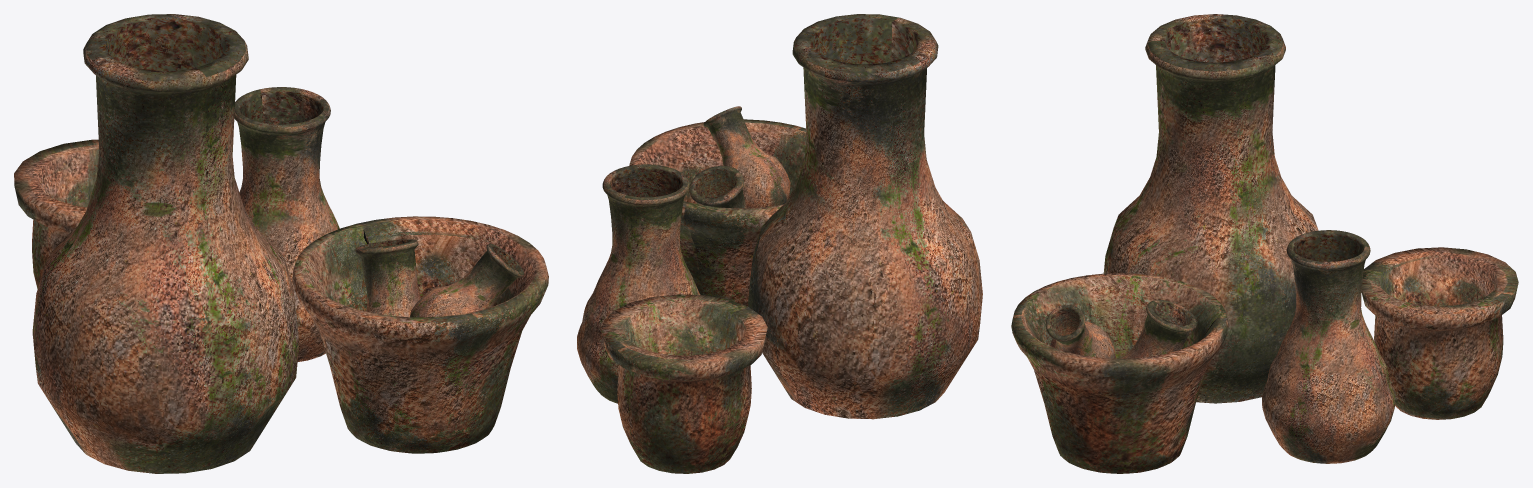
File: market_pots.glb
The picture shows the model from 3 angles, left to right: view 1: azimuth 30°, elevation 25°; view 2: azimuth 150°, elevation 25°; view 3: azimuth 270°, elevation 25°; orthographic projection. The views are drawn at different scales.
Visible parts, largest first — view 1: Cylinder.001_3, Cylinder_2, Cylinder.003_5, Cylinder.004_6, Cylinder.005_7, Cylinder.002_4; view 2: Cylinder.001_3, Cylinder.004_6, Cylinder.003_5, Cylinder_2, Cylinder.005_7, Cylinder.002_4; view 3: Cylinder.001_3, Cylinder_2, Cylinder.003_5, Cylinder.004_6, Cylinder.002_4, Cylinder.005_7.
Part boxes in pixels (x1,y1,x2,y2): Cylinder.001_3: (32, 14, 299, 473); Cylinder_2: (292, 216, 548, 453); Cylinder.003_5: (234, 87, 339, 361); Cylinder.004_6: (14, 139, 99, 288); Cylinder.005_7: (410, 243, 524, 317); Cylinder.002_4: (355, 239, 420, 317); Cylinder.001_3: (748, 14, 982, 419); Cylinder.004_6: (601, 294, 767, 473); Cylinder.003_5: (577, 164, 700, 403); Cylinder_2: (629, 119, 806, 306); Cylinder.005_7: (703, 106, 790, 208); Cylinder.002_4: (689, 165, 746, 208); Cylinder.001_3: (1103, 14, 1318, 403); Cylinder_2: (1011, 273, 1228, 473); Cylinder.003_5: (1262, 230, 1395, 463); Cylinder.004_6: (1361, 247, 1518, 419); Cylinder.002_4: (1117, 299, 1197, 358); Cylinder.005_7: (1045, 304, 1115, 358).
Bounding box in the file's own units: 2.27 × 1.99 × 2.78.
Materials: 2 (2 with a texture image).
